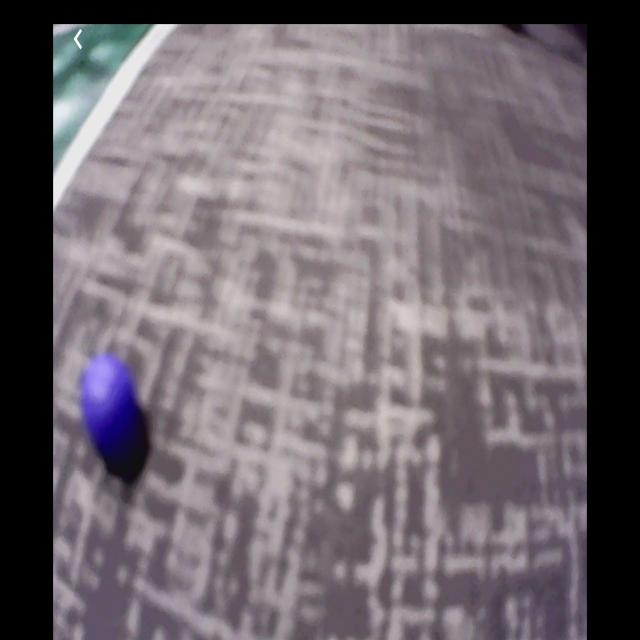ball: (81, 355, 134, 464)
